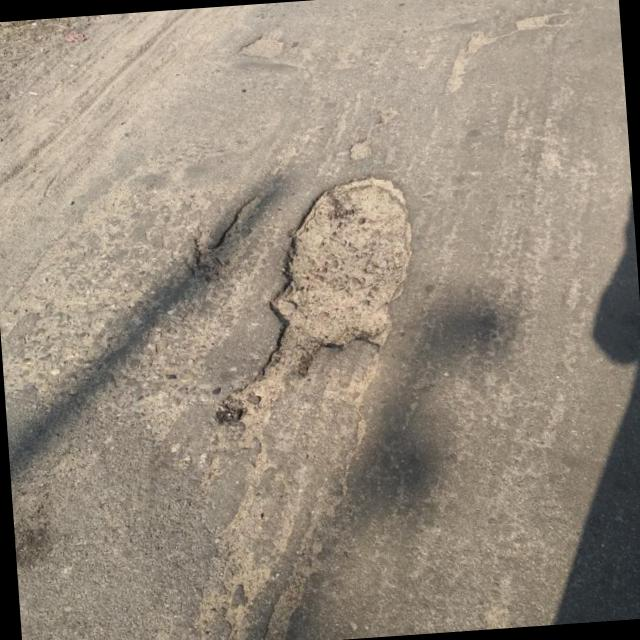Lubang: (274, 177, 411, 345)
